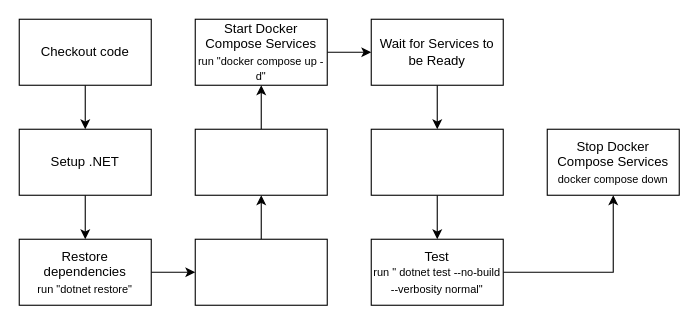
The diagram is 699 pixels wide and 325 high, and some of its shapes have lost their labels. Here are the shapes that lost their labels. From the top down, the box of each, then its label:
(194, 128, 327, 195): Run Docker API-Test-Containers
(370, 128, 503, 195): Install Playwright
(194, 238, 327, 305): Build application run "dotnet build --no-restore --warnaserror"
